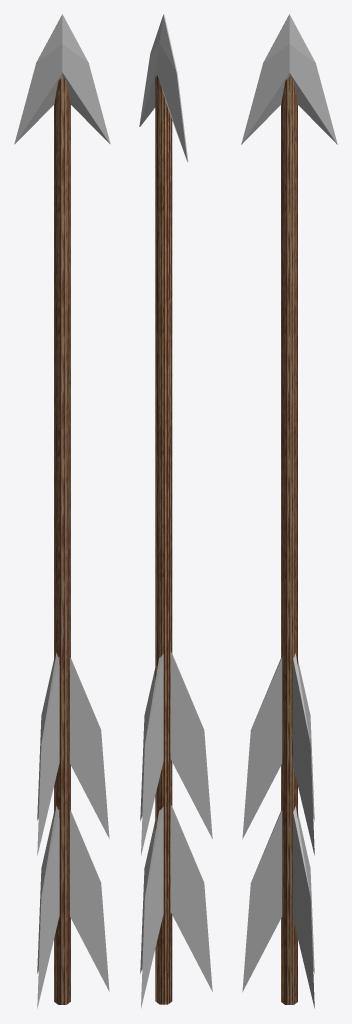
The model's file is arrow2.fbx.
The picture shows the model from 3 angles, left to right: view 1: azimuth 90°, elevation 25°; view 2: azimuth 210°, elevation 25°; view 3: azimuth 270°, elevation 25°; orthographic projection.
Parts seen in each view (by area): view 1: Arrow; view 2: Arrow; view 3: Arrow.
Part boxes in pixels (<box>): Arrow: <box>14,14,110,1008</box>; Arrow: <box>139,14,212,1008</box>; Arrow: <box>241,14,337,1008</box>.
Bounding box in the file's own units: 0.133 × 1.75 × 0.1546.
